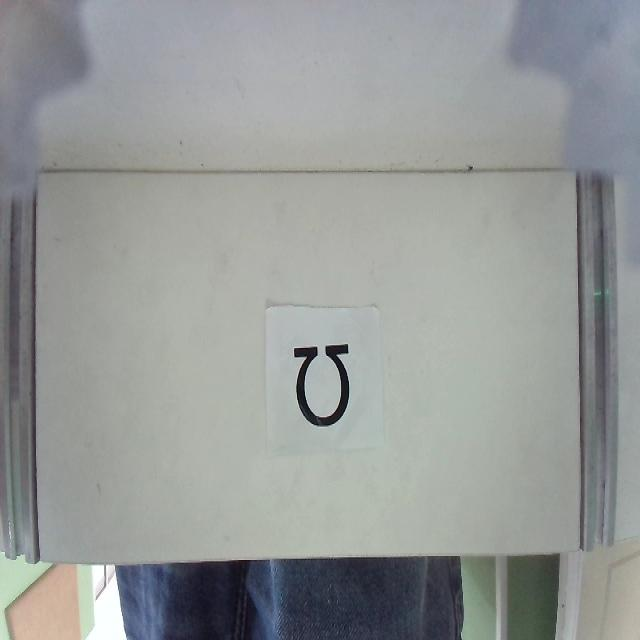OM: (292, 341, 352, 427)
